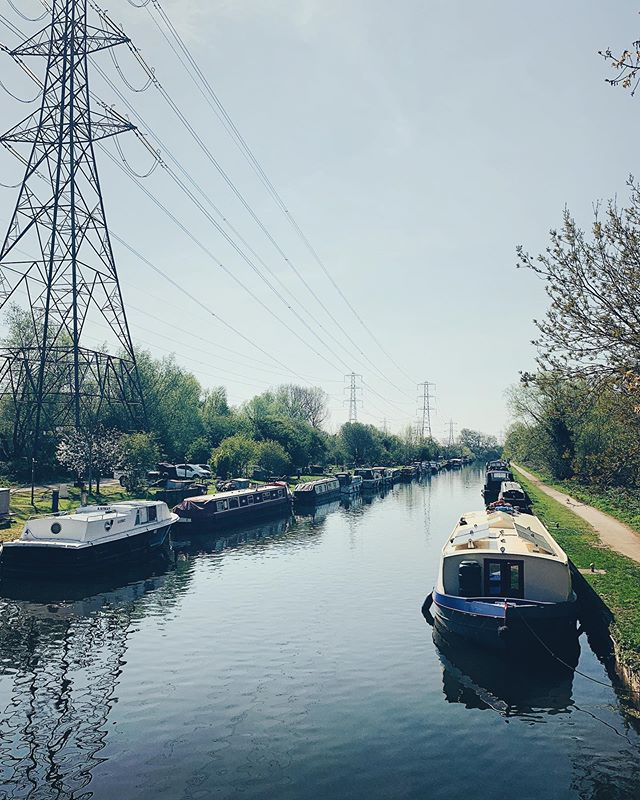boat: (427, 502, 577, 661), (1, 497, 183, 565), (179, 484, 294, 530), (288, 473, 343, 507)
power pole: (1, 1, 195, 465)
river: (1, 464, 640, 794)
sky: (123, 1, 640, 385)
vegetation: (156, 382, 482, 468), (511, 272, 640, 475)
